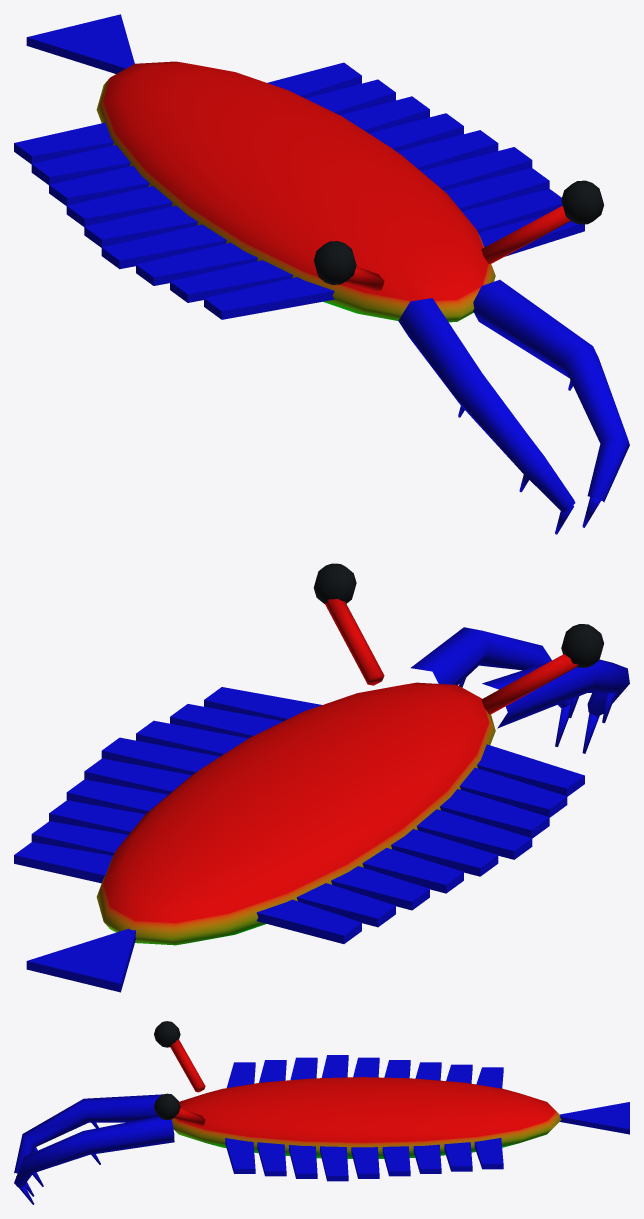
File: fish_anomalo.glb
The picture shows the model from 3 angles, top to bottom: view 1: azimuth 30°, elevation 25°; view 2: azimuth 150°, elevation 25°; view 3: azimuth 270°, elevation 25°; orthographic projection. The views are drawn at different scales.
Parts seen in each view (by area): view 1: Body, Eye; view 2: Body, Eye; view 3: Body, Eye.
Boxes of the visible parts, x1,y1,x2,y2 form: Body: (14,14,629,534); Eye: (313,180,603,284); Body: (14,599,629,992); Eye: (313,563,603,667); Body: (14,1039,629,1204); Eye: (154,1021,180,1120).
Size of the model in its own units: 0.6 by 0.329 by 1.29.
